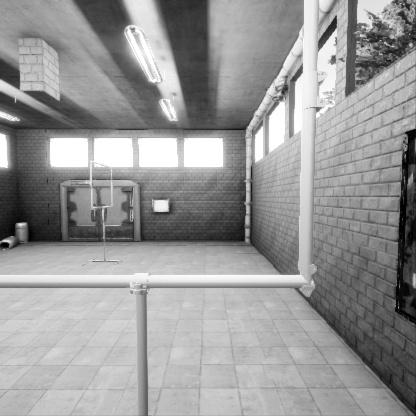gate: (89, 208, 113, 257)
